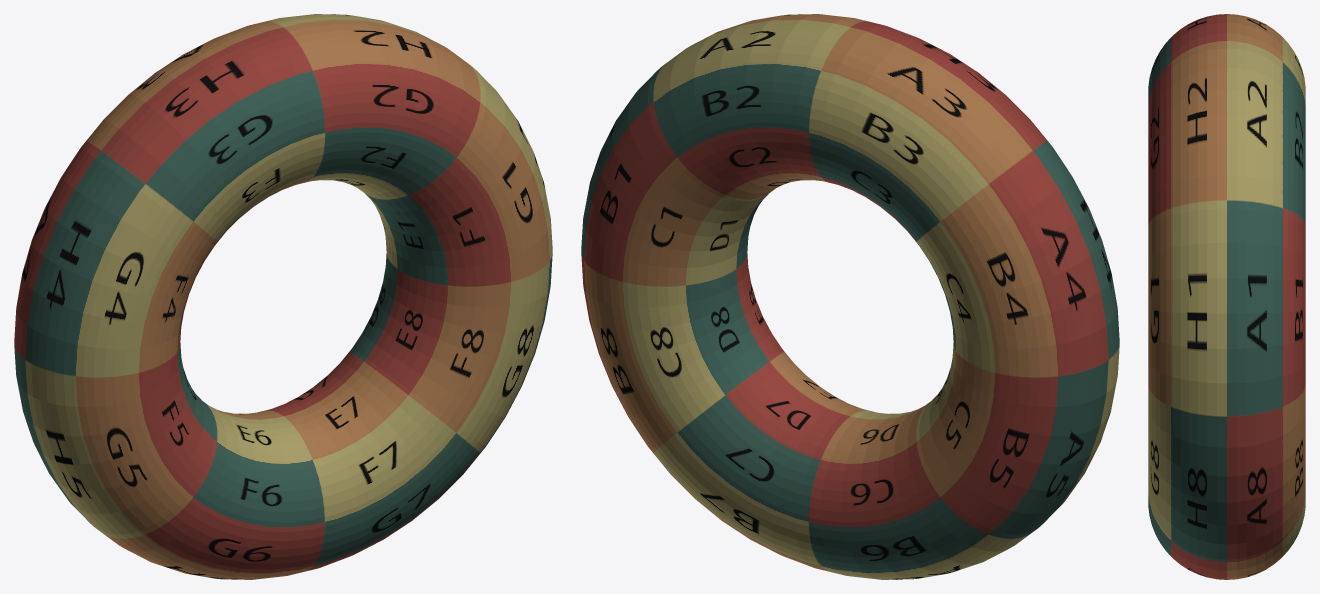
File: texture_torus_R0_r7.glb
The picture shows the model from 3 angles, left to right: view 1: azimuth 30°, elevation 25°; view 2: azimuth 150°, elevation 25°; view 3: azimuth 270°, elevation 25°; orthographic projection. The views are drawn at different scales.
Visible parts, largest first — view 1: world; view 2: world; view 3: world.
Part boxes in pixels (x1,y1,x2,y2): world: (14,14,552,579); world: (581,14,1119,579); world: (1148,14,1305,579).
Size of the model in its own units: 13.87 by 13.84 by 3.86.
Materials: 1 (1 with a texture image).
